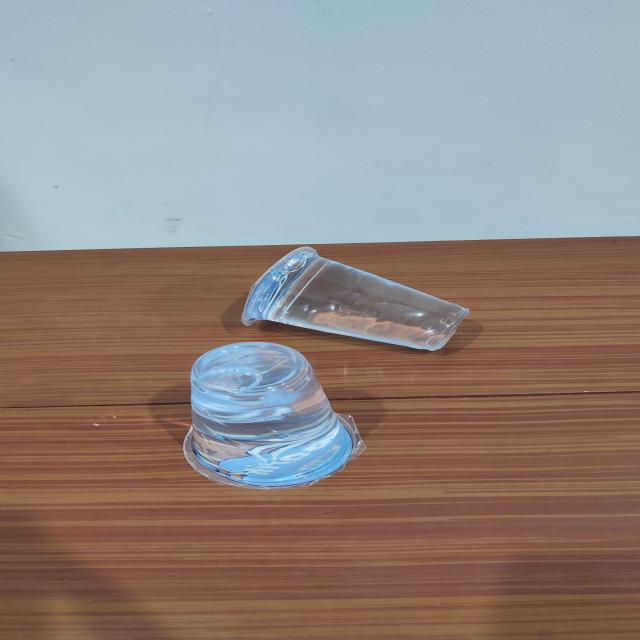air gelas: (224, 240, 495, 355), (169, 344, 366, 495)
